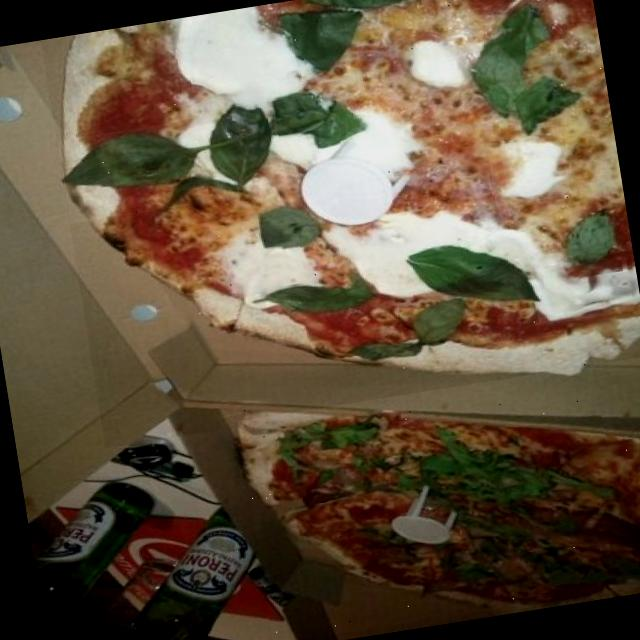basil: (58, 106, 287, 223), (416, 414, 616, 538), (456, 0, 575, 135), (406, 231, 541, 324), (276, 414, 384, 469), (445, 532, 529, 598), (556, 203, 623, 280), (396, 292, 479, 353), (526, 541, 606, 598)
cheese: (170, 2, 302, 114), (531, 256, 634, 326), (486, 132, 572, 207), (392, 28, 470, 106), (337, 219, 412, 296), (226, 237, 306, 296), (340, 131, 410, 183)
pizza: (62, 0, 640, 374), (239, 414, 640, 604)
